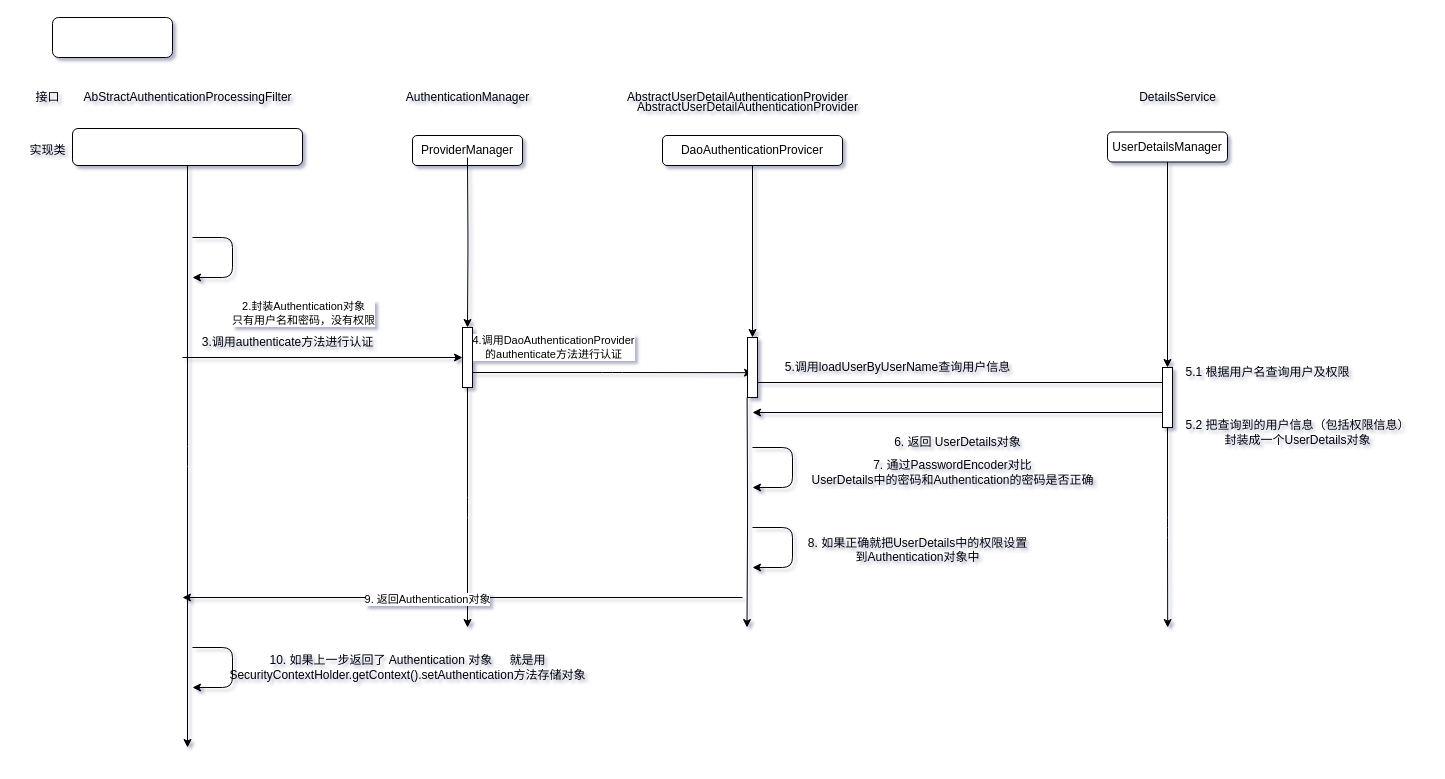
The diagram is 1445 pixels wide and 779 high, and some of its shapes have lost their labels. The centre of each missing label's shape, as x and y in pixels:
"SpringSecurity 认证流程" goes at point 112,37.
"UsernamePasswordAuthenticationFilter" goes at point 187,147.
